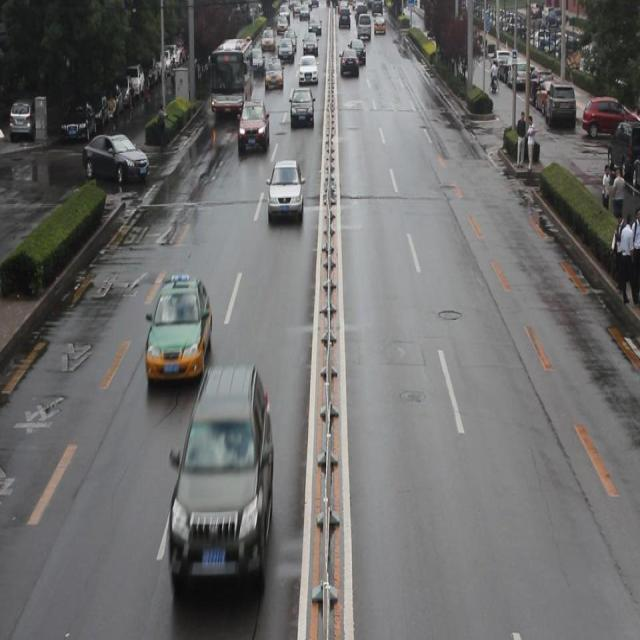car: (169, 362, 273, 586), (145, 274, 211, 384), (82, 132, 149, 188), (266, 158, 303, 222), (237, 102, 269, 150), (289, 88, 313, 126)
van: (210, 37, 253, 114)
